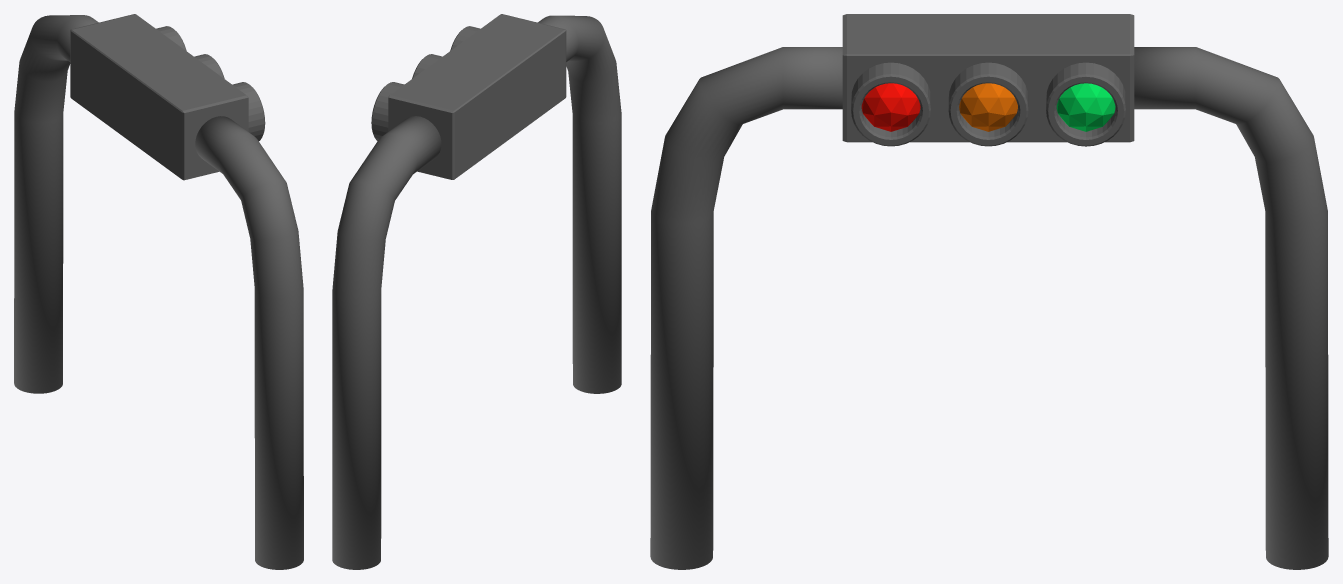
The model's file is lights.fbx.
3 views of the same model, side by side, from view 1: azimuth 30°, elevation 25°; view 2: azimuth 150°, elevation 25°; view 3: azimuth 270°, elevation 25° (orthographic). The views are drawn at different scales.
Parts seen in each view (by area): view 1: poles, lights, Cylinder.001; view 2: poles, lights, Cylinder.002; view 3: poles, lights, Cylinder.002, Cylinder.001, Cylinder.
Boxes of the visible parts, x1,y1,x2,y2 form: poles: (14, 15, 303, 569); lights: (70, 14, 248, 180); Cylinder.001: (232, 82, 265, 140); poles: (332, 15, 621, 569); lights: (388, 14, 566, 179); Cylinder.002: (371, 82, 404, 140); poles: (650, 47, 1328, 569); lights: (842, 14, 1134, 142); Cylinder.002: (1046, 62, 1125, 146); Cylinder.001: (851, 62, 930, 146); Cylinder: (948, 62, 1028, 146).
Bounding box in the file's own units: 267 × 1183 × 1391.
